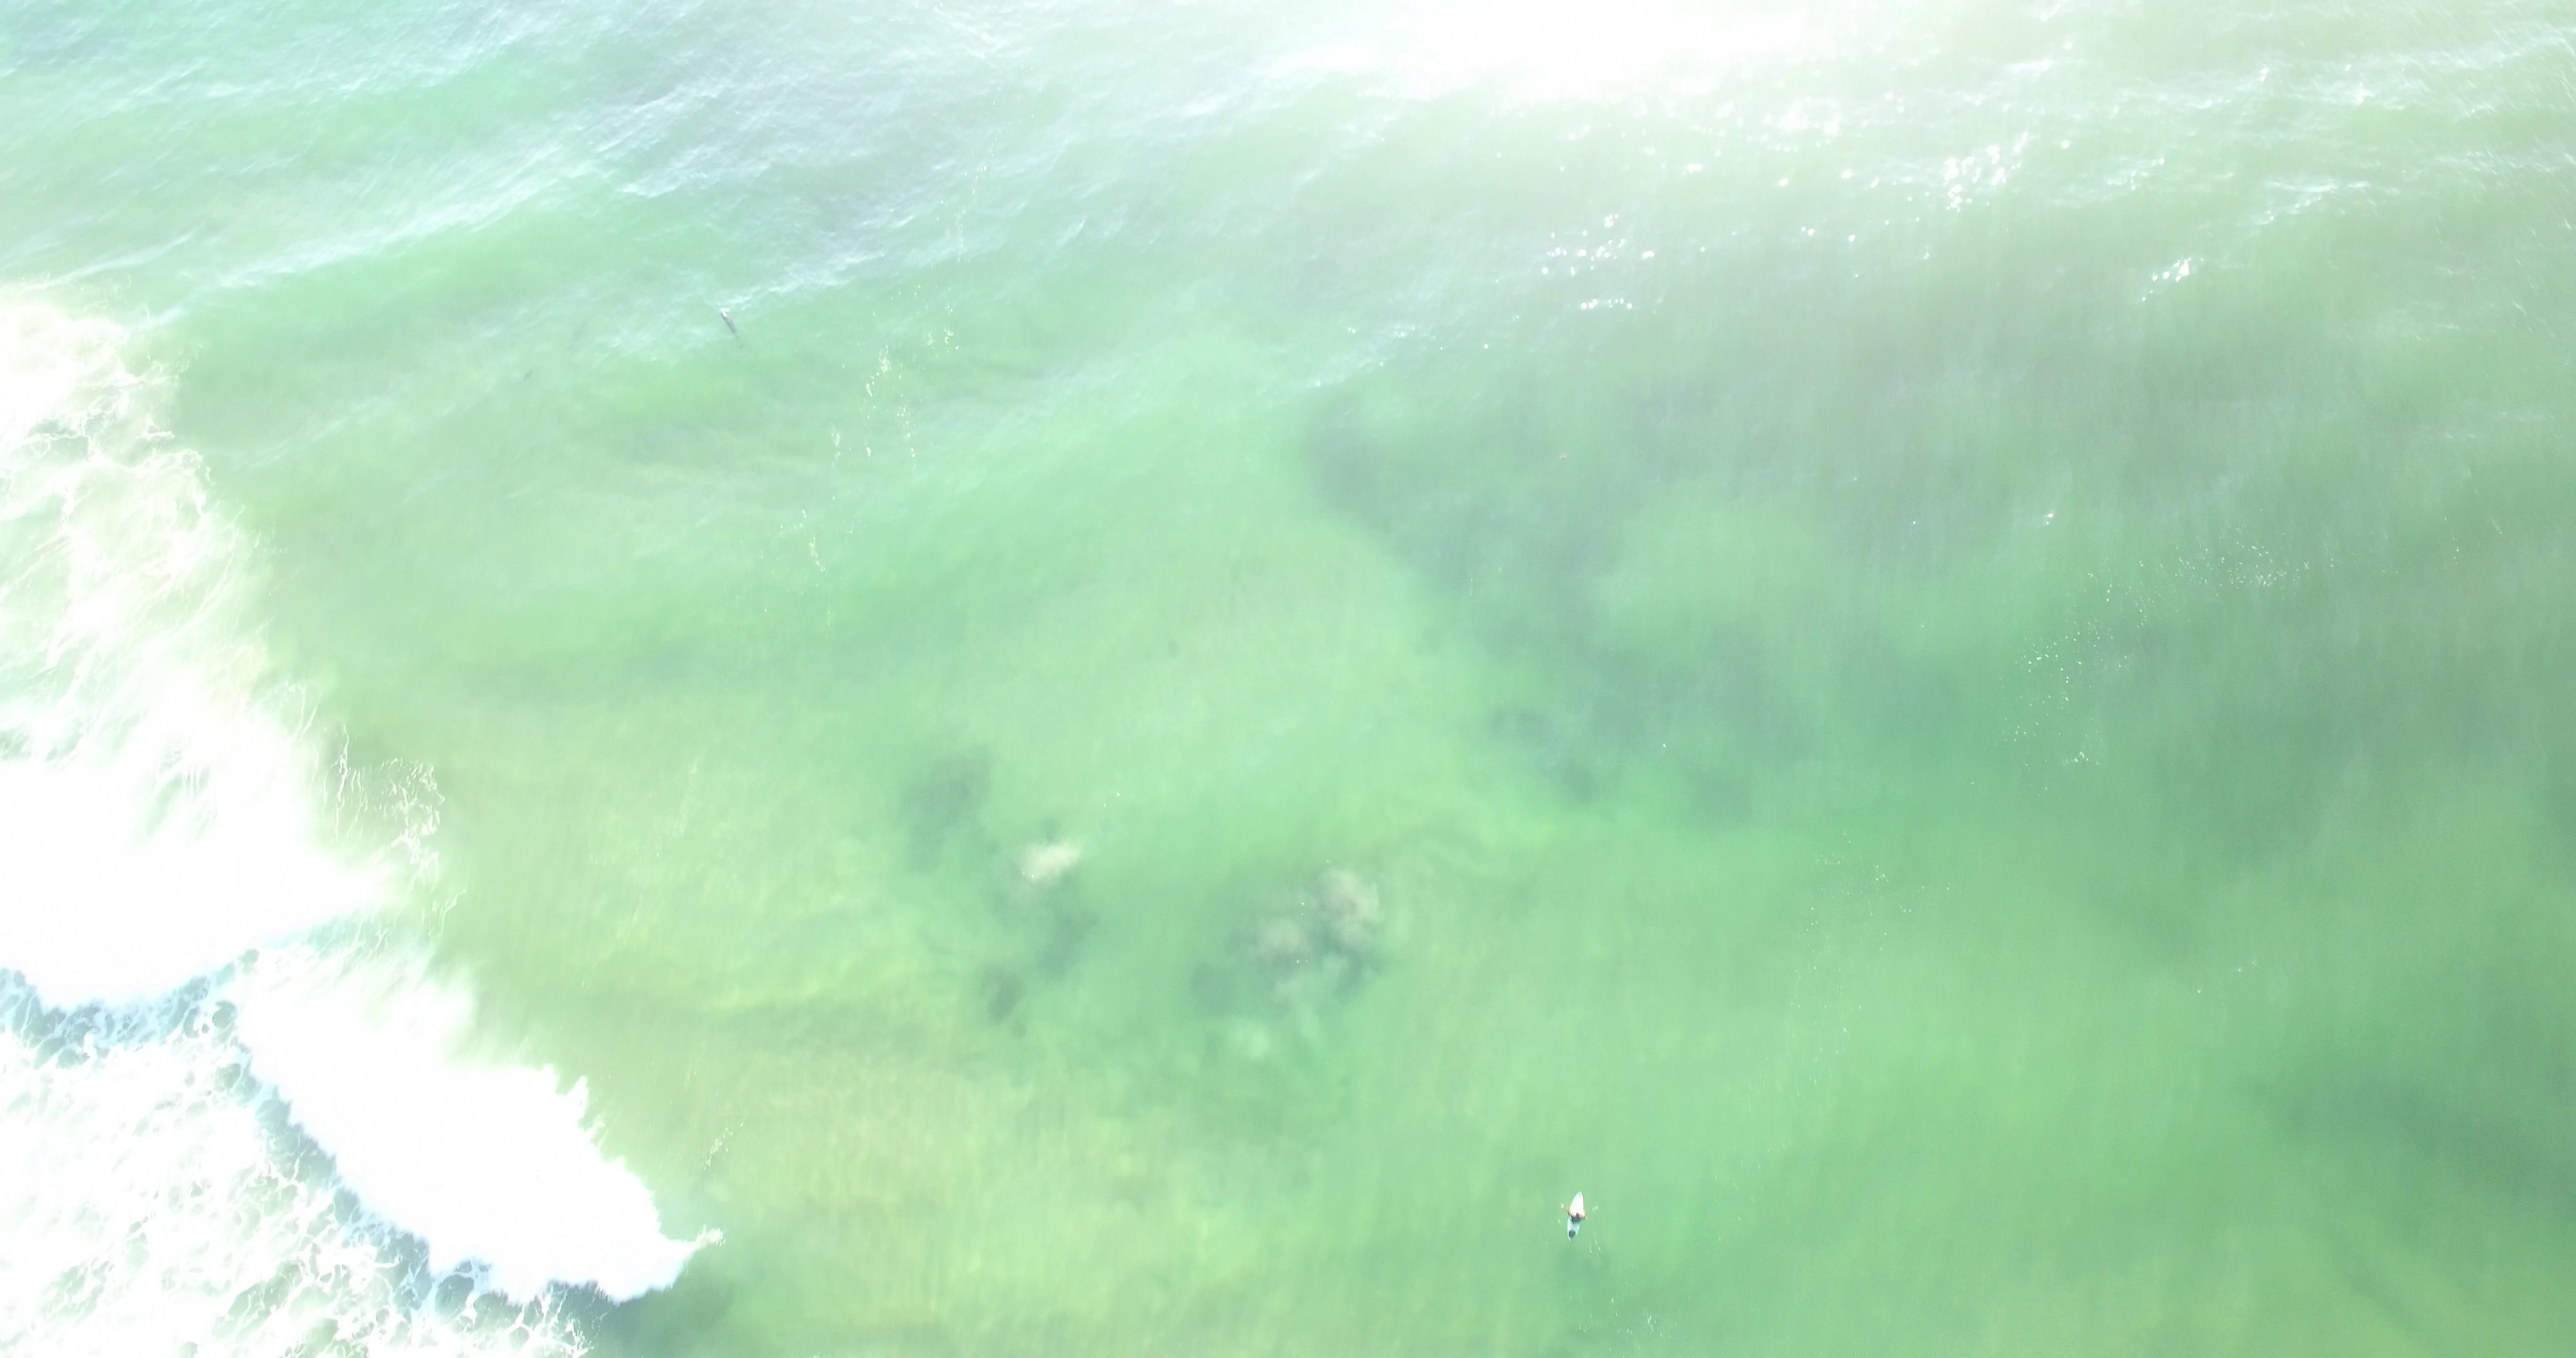dolphin: (716, 307, 743, 346)
surfer: (1557, 1191, 1588, 1242)
